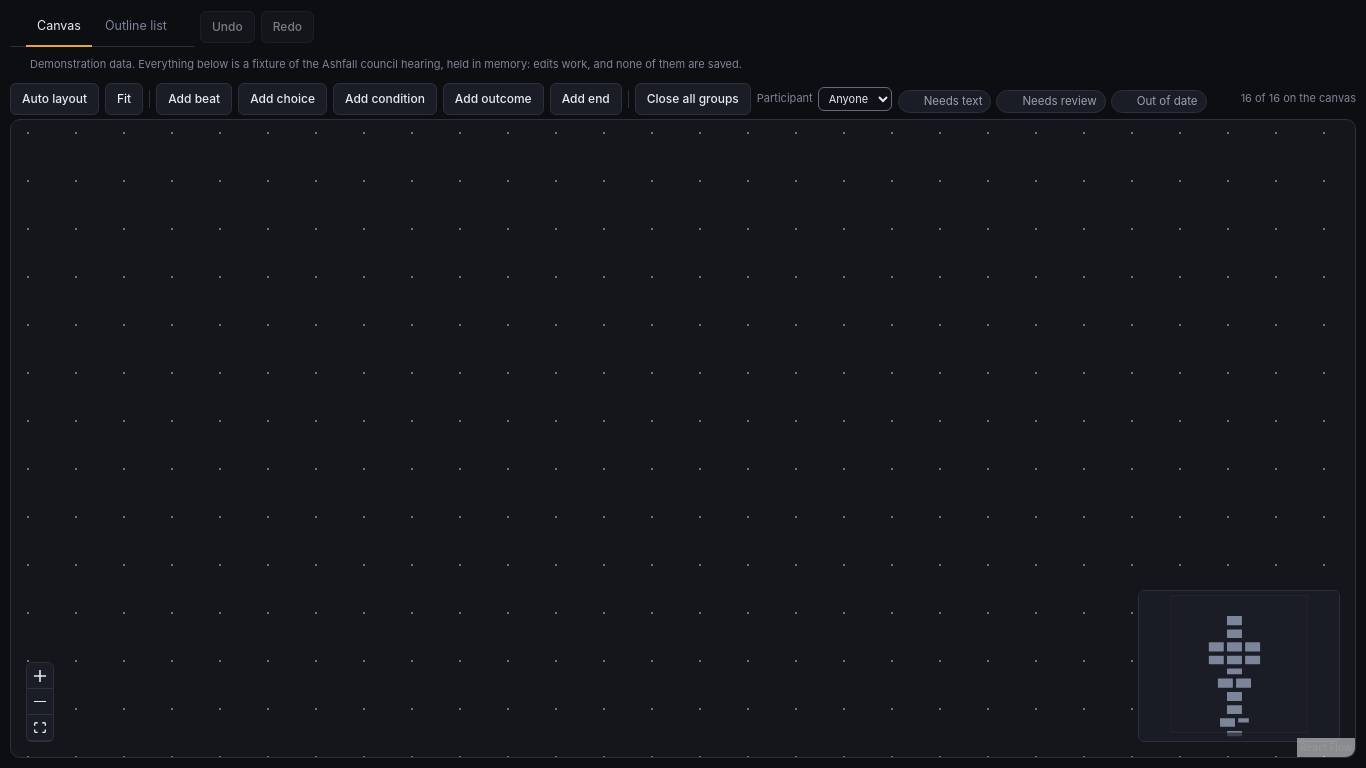
the outline list, as a full alternative to the canvas › offers the canvas’s operations as ordinary controls
The image size is (1366, 768).
Click the button "Outline list" at {"x": 136, "y": 27}, box [94,8,178,47]
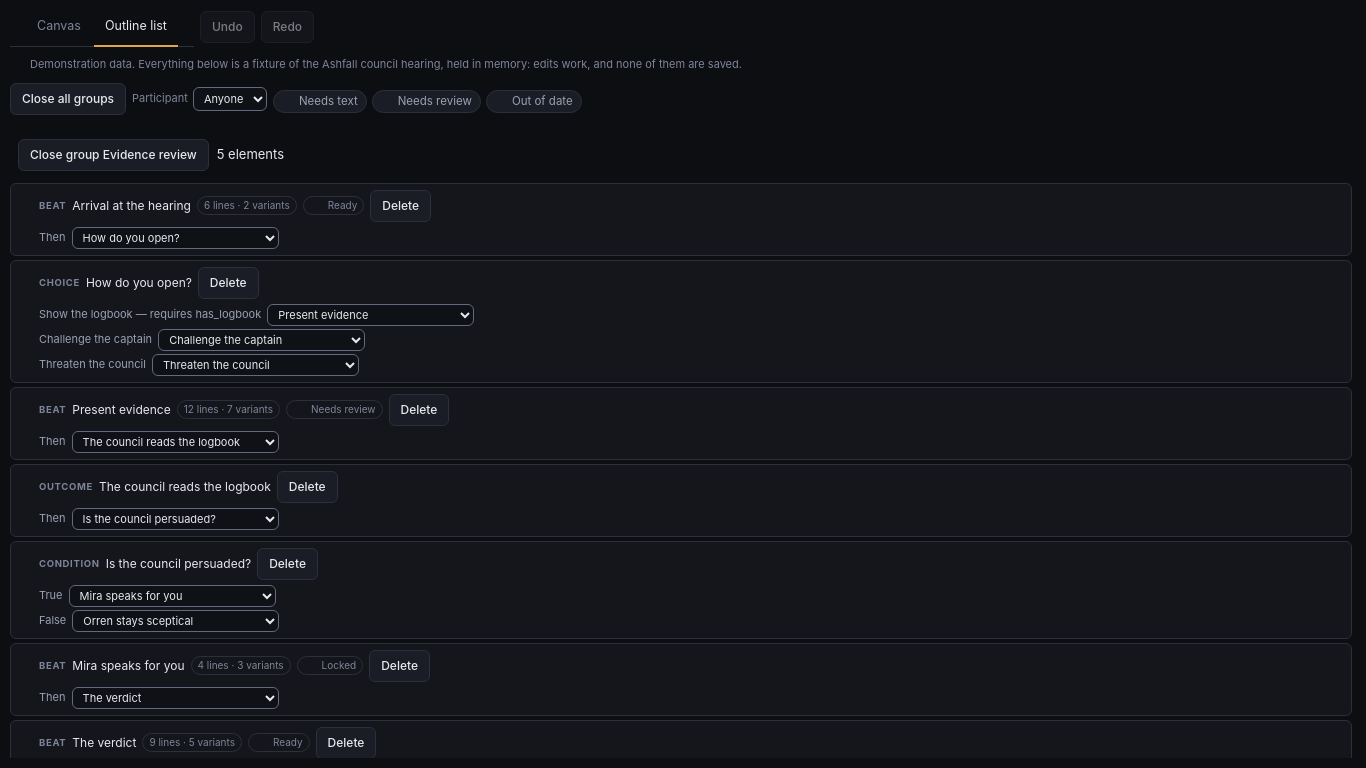
Now the dropdown named "The council reads the logbook — Then leads to" shows "Is the council persuaded?"
Select "Nothing yet" in the dropdown named "The council reads the logbook — Then leads to" at {"x": 175, "y": 519}, box [72,508,278,530]
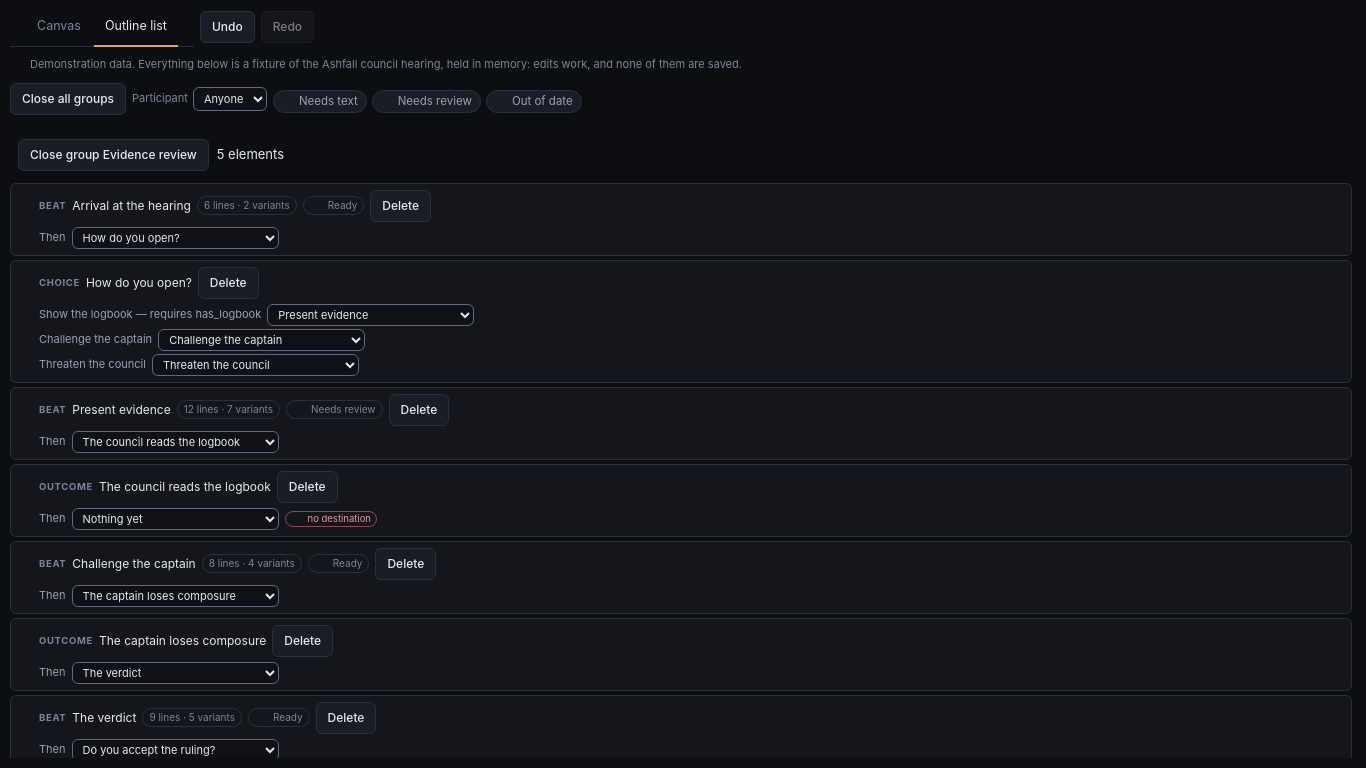
Now the text "no destination" is shown, box [284,511,377,527]
